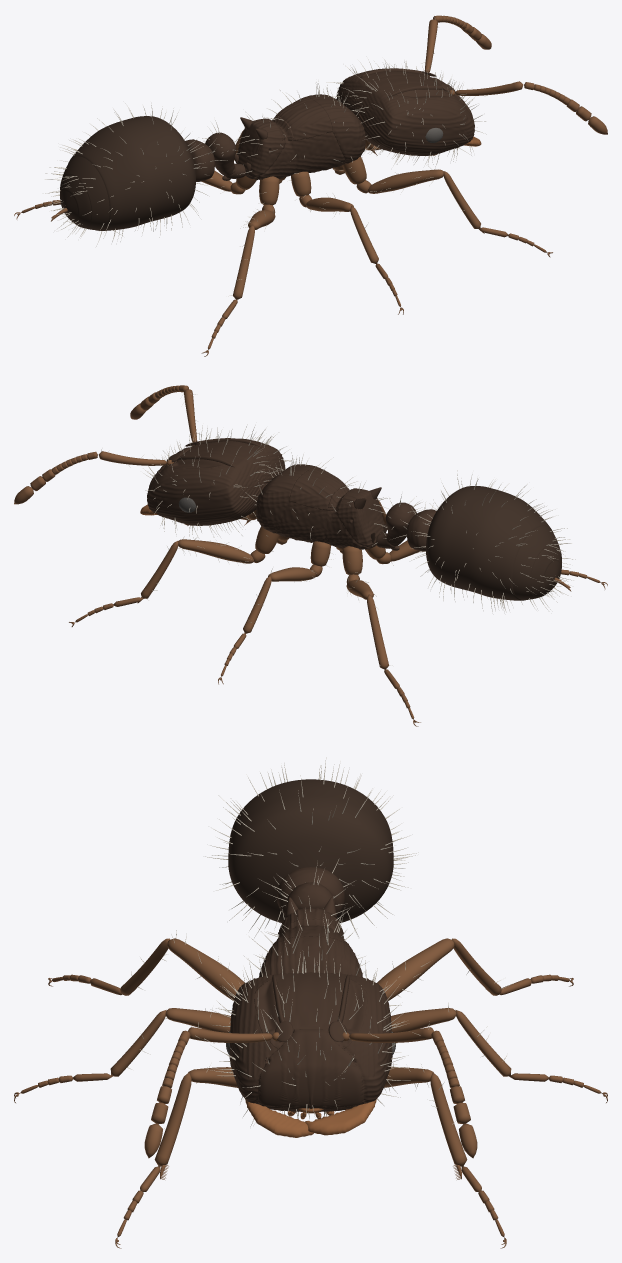
The model's file is tetramorium_lite.glb.
3 renders of one model, top to bottom at view 1: azimuth 30°, elevation 25°; view 2: azimuth 150°, elevation 25°; view 3: azimuth 270°, elevation 25°, orthographic. The views are drawn at different scales.
Parts seen in each view (by area): view 1: gaster-IV, x-head-capsule, mesosoma, hl-propodeum, hl-pronotum, gaster-V, hl-mesonotum, x-setae-gaster, x-setae-head, petiole, x-femur-fore_R, gaster-VI (+9 smaller); view 2: gaster-IV, x-head-capsule, mesosoma, hl-propodeum, hl-pronotum, gaster-V, hl-mesonotum, x-setae-gaster, x-setae-head, petiole, x-femur-fore_L, gaster-VI (+9 smaller); view 3: gaster-IV, x-head-capsule, clypeus, hl-pronotum, x-setae-head, x-setae-gaster, x-femur-hind_L, x-femur-hind_R, postpetiole, mandible_L, mandible_R, x-tibia-fore_R (+19 smaller).
Boxes of the visible parts, x1=… form: gaster-IV: x1=68, y1=116, x2=195, y2=230; x-head-capsule: x1=336, y1=68, x2=474, y2=155; mesosoma: x1=245, y1=131, x2=345, y2=179; hl-propodeum: x1=237, y1=118, x2=285, y2=177; hl-pronotum: x1=305, y1=94, x2=365, y2=163; gaster-V: x1=60, y1=156, x2=109, y2=230; hl-mesonotum: x1=275, y1=97, x2=332, y2=140; x-setae-gaster: x1=44, y1=103, x2=209, y2=246; x-setae-head: x1=327, y1=59, x2=486, y2=166; petiole: x1=205, y1=132, x2=245, y2=180; x-femur-fore_R: x1=367, y1=169, x2=443, y2=193; gaster-VI: x1=60, y1=174, x2=91, y2=227; gaster-IV: x1=426, y1=486, x2=553, y2=600; x-head-capsule: x1=147, y1=438, x2=285, y2=525; mesosoma: x1=276, y1=501, x2=376, y2=549; hl-propodeum: x1=336, y1=488, x2=384, y2=547; hl-pronotum: x1=256, y1=464, x2=316, y2=533; gaster-V: x1=512, y1=526, x2=561, y2=599; hl-mesonotum: x1=289, y1=466, x2=345, y2=510; x-setae-gaster: x1=411, y1=470, x2=575, y2=612; x-setae-head: x1=144, y1=424, x2=296, y2=537; petiole: x1=376, y1=502, x2=416, y2=550; x-femur-fore_L: x1=178, y1=539, x2=253, y2=563; gaster-VI: x1=530, y1=544, x2=561, y2=596; gaster-IV: x1=228, y1=779, x2=393, y2=922; x-head-capsule: x1=229, y1=972, x2=392, y2=1111; clypeus: x1=258, y1=1029, x2=363, y2=1108; hl-pronotum: x1=259, y1=936, x2=362, y2=976; x-setae-head: x1=210, y1=946, x2=410, y2=1126; x-setae-gaster: x1=205, y1=757, x2=418, y2=937; x-femur-hind_L: x1=377, y1=938, x2=454, y2=1000; x-femur-hind_R: x1=167, y1=938, x2=244, y2=1000; postpetiole: x1=277, y1=867, x2=344, y2=915; mandible_L: x1=305, y1=1099, x2=376, y2=1135; mandible_R: x1=245, y1=1099, x2=313, y2=1137; x-tibia-fore_R: x1=154, y1=1072, x2=191, y2=1166.
Size of the model in its own units: 3.76 by 1.29 by 2.8.
